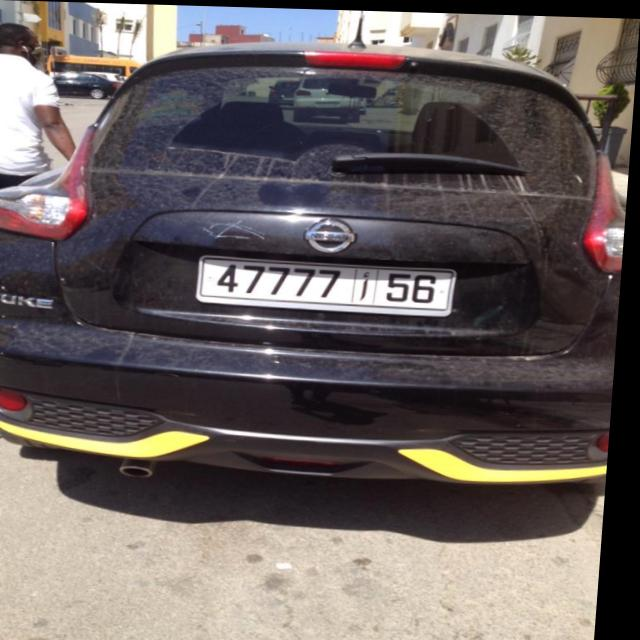License-Plate: (201, 254, 461, 313)
